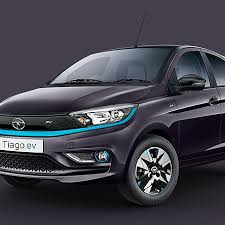Tiago: (2, 41, 225, 208)
